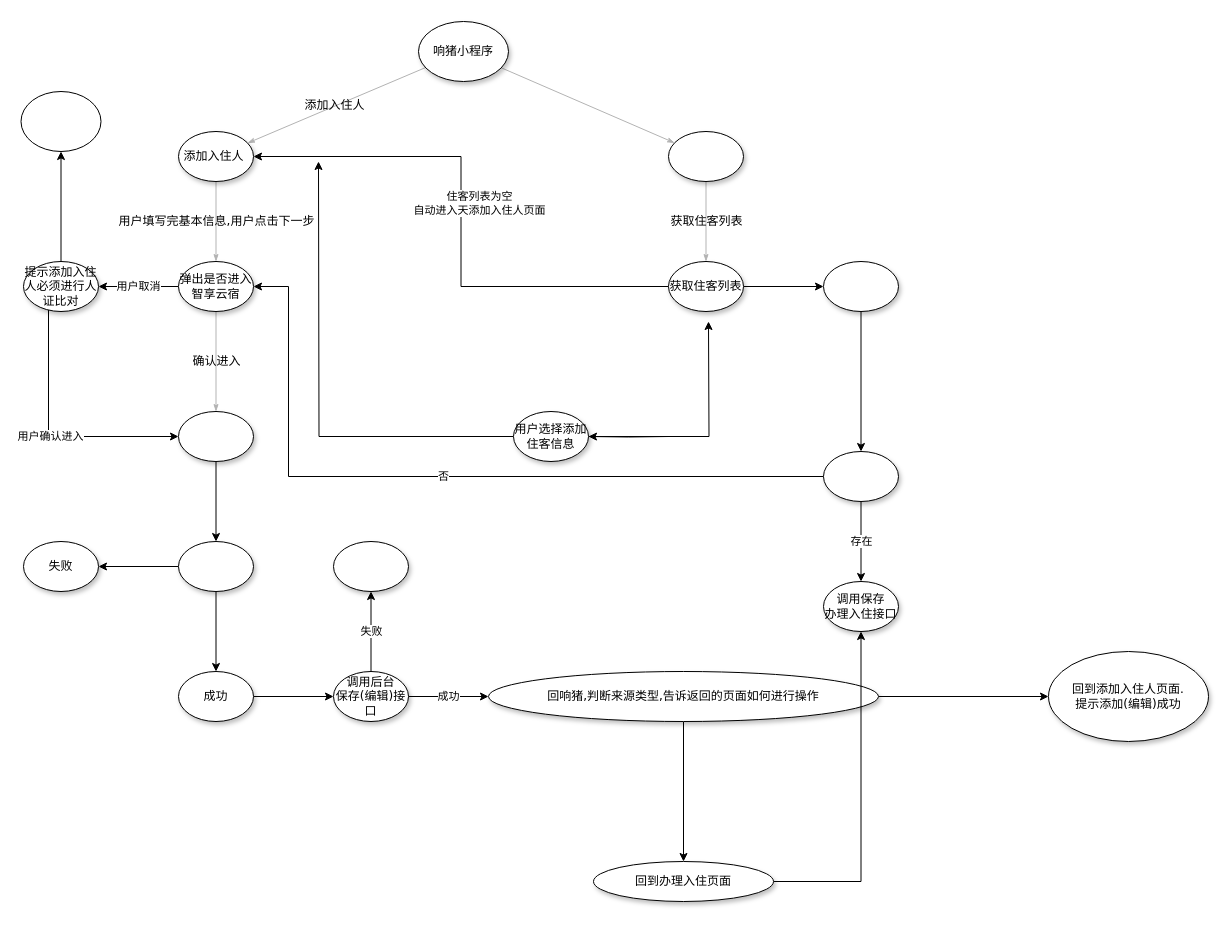
The diagram is 1232 pixels wide and 926 high, and some of its shapes have lost their labels. The shapes that lost their labels are listed below. From the top down, each one's centre as x and y in pixels, then its label:
At point 60,121: "取消".
At point 707,157: "办理入住".
At point 861,287: "用户选择已有 住客".
At point 217,437: "进入智享云宿人脸识别页面".
At point 861,477: "判断是否存在 人脸特征值".
At point 217,567: "比对结果".
At point 371,567: "提示失败".
